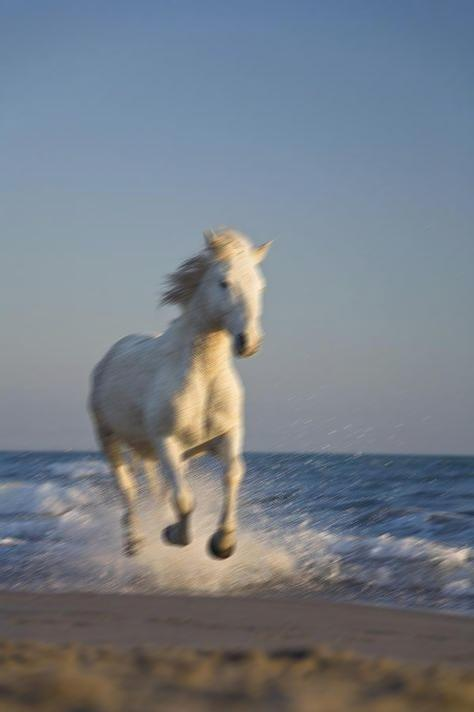horse: (86, 224, 272, 560)
